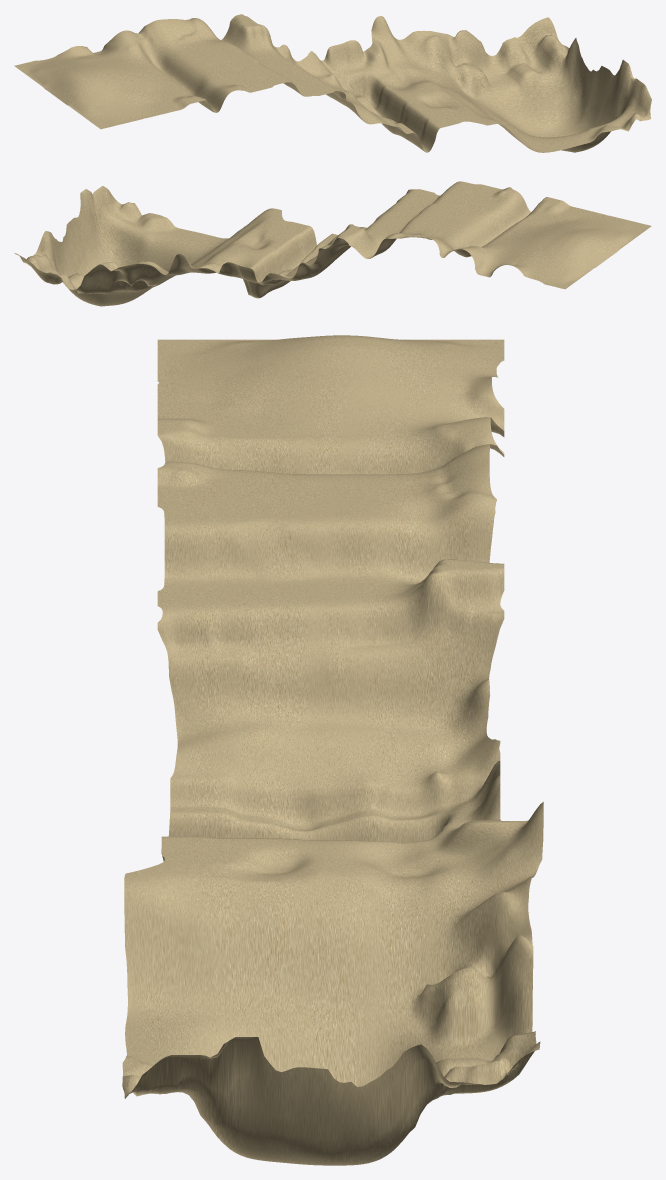
Rendered from SandGround.fbx.
3 views of the same model, one above another, from view 1: azimuth 30°, elevation 25°; view 2: azimuth 150°, elevation 25°; view 3: azimuth 270°, elevation 25° (orthographic). The views are drawn at different scales.
Parts seen in each view (by area): view 1: Background_Floor; view 2: Background_Floor; view 3: Background_Floor.
Part boxes in pixels (x1,y1,x2,y2): Background_Floor: (14,14,651,152); Background_Floor: (14,181,651,306); Background_Floor: (122,335,543,1165).
Size of the model in its own units: 277 by 86.43 by 92.4.
